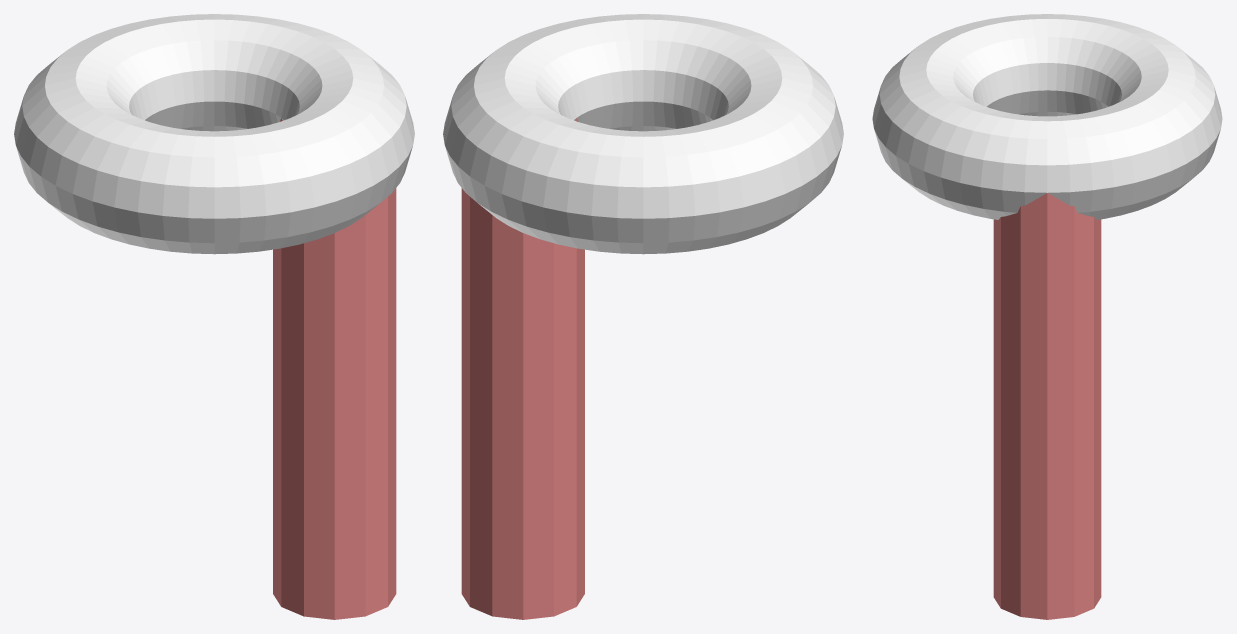
The model's file is item_candy_cane.glb.
The picture shows the model from 3 angles, left to right: view 1: azimuth 30°, elevation 25°; view 2: azimuth 150°, elevation 25°; view 3: azimuth 270°, elevation 25°; orthographic projection. The views are drawn at different scales.
Parts seen in each view (by area): view 1: item_candy_cane; view 2: item_candy_cane; view 3: item_candy_cane.
Boxes of the visible parts, x1,y1,x2,y2 form: item_candy_cane: (14,14,414,619); item_candy_cane: (443,14,843,619); item_candy_cane: (872,14,1222,619).
Bounding box in the file's own units: 0.52 × 0.78 × 0.52.
